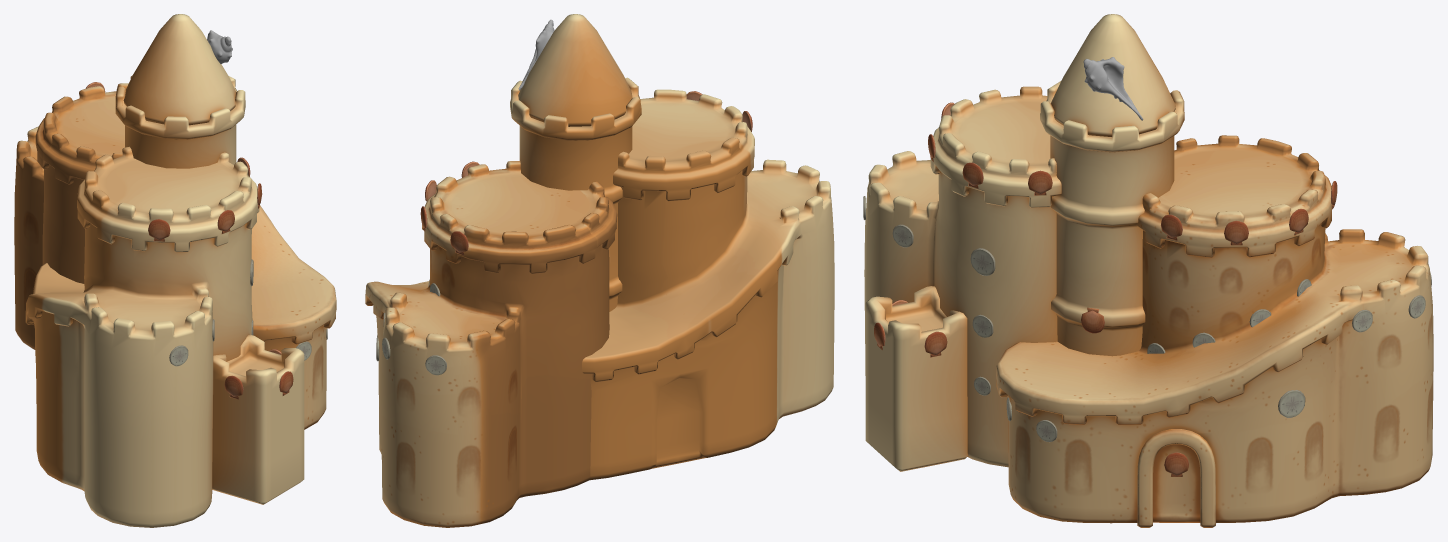
The model's file is SandCastle_Part2.fbx.
The picture shows the model from 3 angles, left to right: view 1: azimuth 30°, elevation 25°; view 2: azimuth 150°, elevation 25°; view 3: azimuth 270°, elevation 25°; orthographic projection. The views are drawn at different scales.
Parts seen in each view (by area): view 1: Base (×2), LittleTower, Tower_Roof, Tower_Base, specialshell1:Mesh, Shell7; view 2: Base (×2), Tower_Base, Tower_Roof; view 3: Base (×2), Tower_Base, LittleTower, Tower_Roof, Doorway, specialshell1:Mesh.
Part boxes in pixels (<box>): Base (×2): <box>14,83,336,527</box>; LittleTower: <box>212,334,304,504</box>; Tower_Roof: <box>123,14,235,125</box>; Tower_Base: <box>115,75,245,168</box>; specialshell1:Mesh: <box>207,30,232,63</box>; Shell7: <box>148,219,170,241</box>; Base (×2): <box>365,89,834,527</box>; Tower_Base: <box>510,77,641,311</box>; Tower_Roof: <box>518,14,632,126</box>; Base (×2): <box>864,86,1433,523</box>; Tower_Base: <box>1040,81,1184,356</box>; LittleTower: <box>865,286,967,471</box>; Tower_Roof: <box>1051,14,1175,136</box>; Doorway: <box>1137,429,1215,527</box>; specialshell1:Mesh: <box>1083,57,1143,120</box>.
Size of the model in its own units: 10.01 by 12.61 by 14.61.
